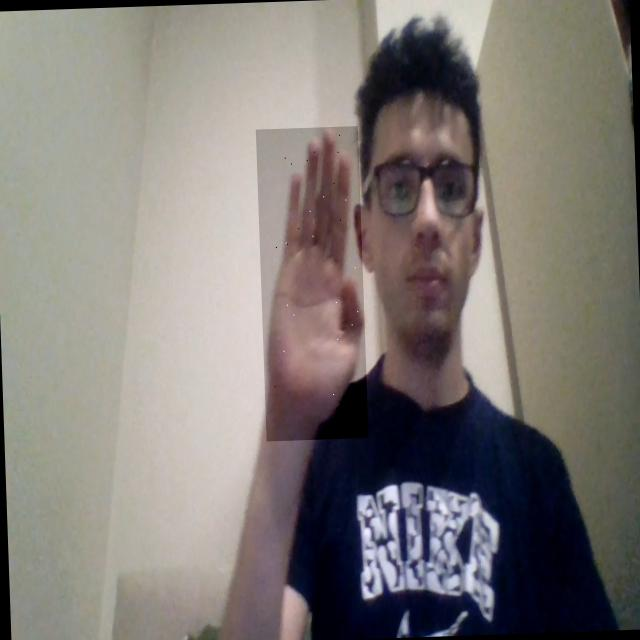hello: (255, 126, 368, 441)
